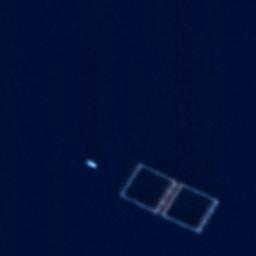square_solid: (116, 158, 182, 218), (159, 180, 223, 238)
